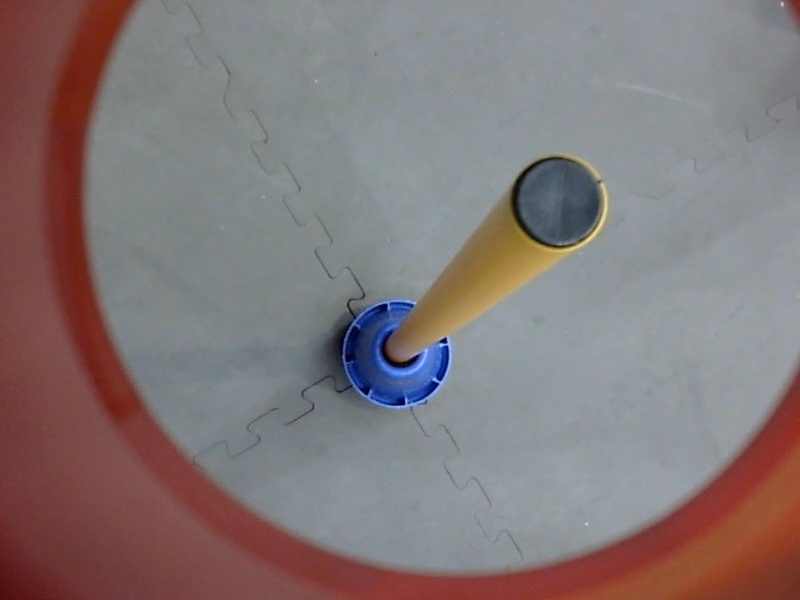tip: (506, 151, 617, 254)
